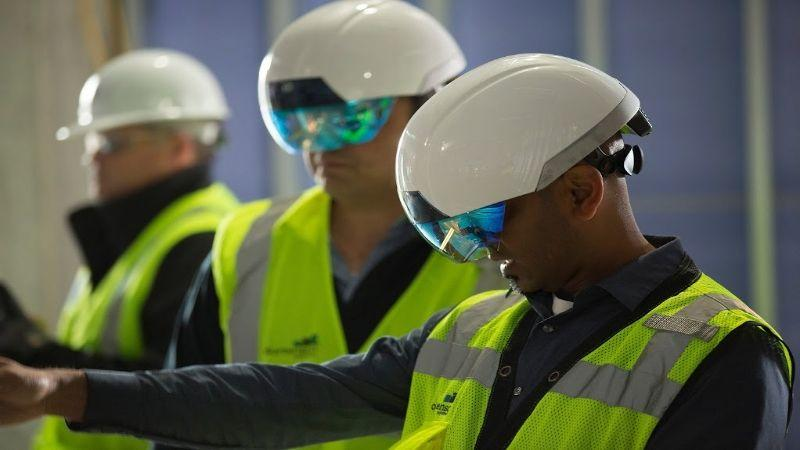helmet: (398, 52, 647, 222), (257, 1, 471, 101), (71, 49, 229, 135)
